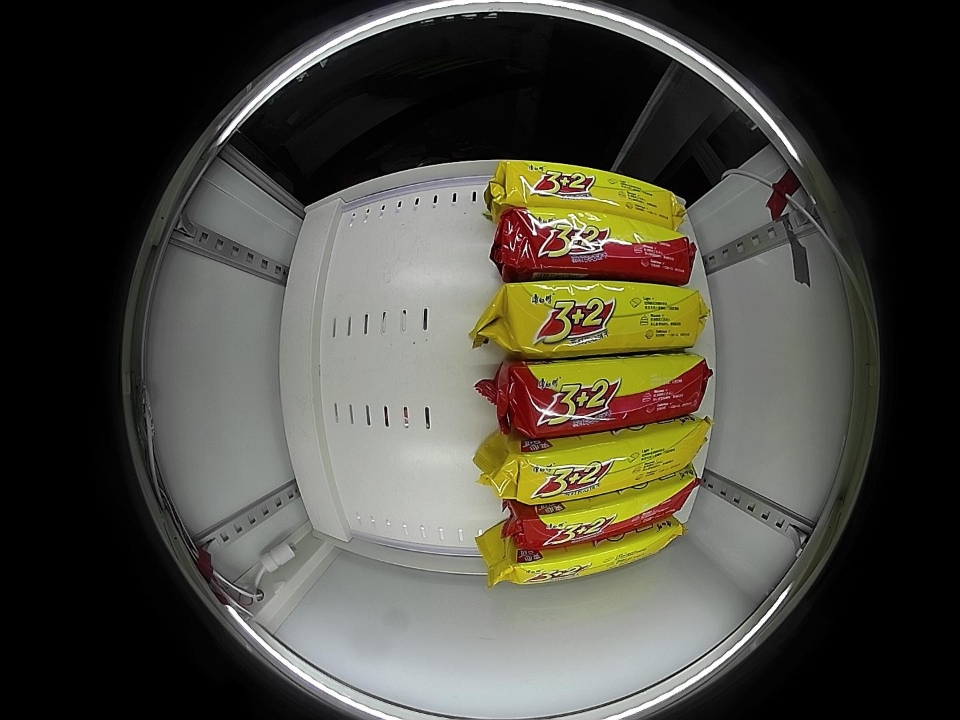3+2-2: (512, 424, 705, 504), (505, 280, 706, 355), (498, 161, 681, 224), (501, 523, 684, 585)
3jia2: (510, 355, 706, 435), (502, 209, 692, 282), (516, 477, 694, 549)
